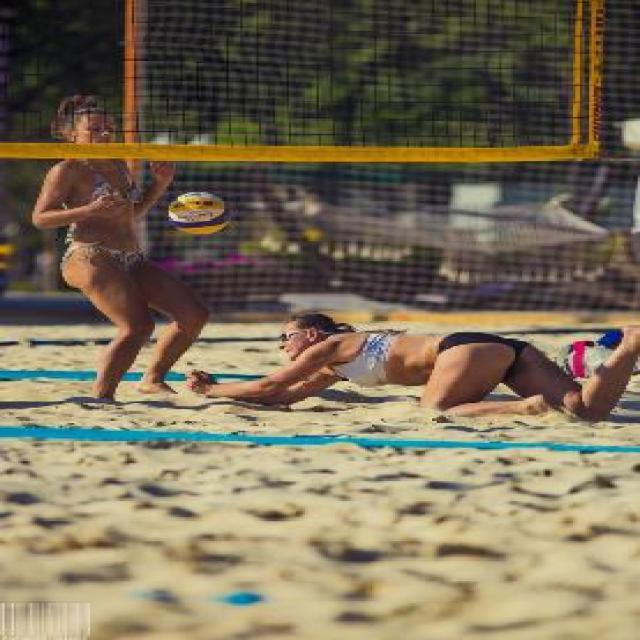volleyball: (168, 192, 232, 236)
